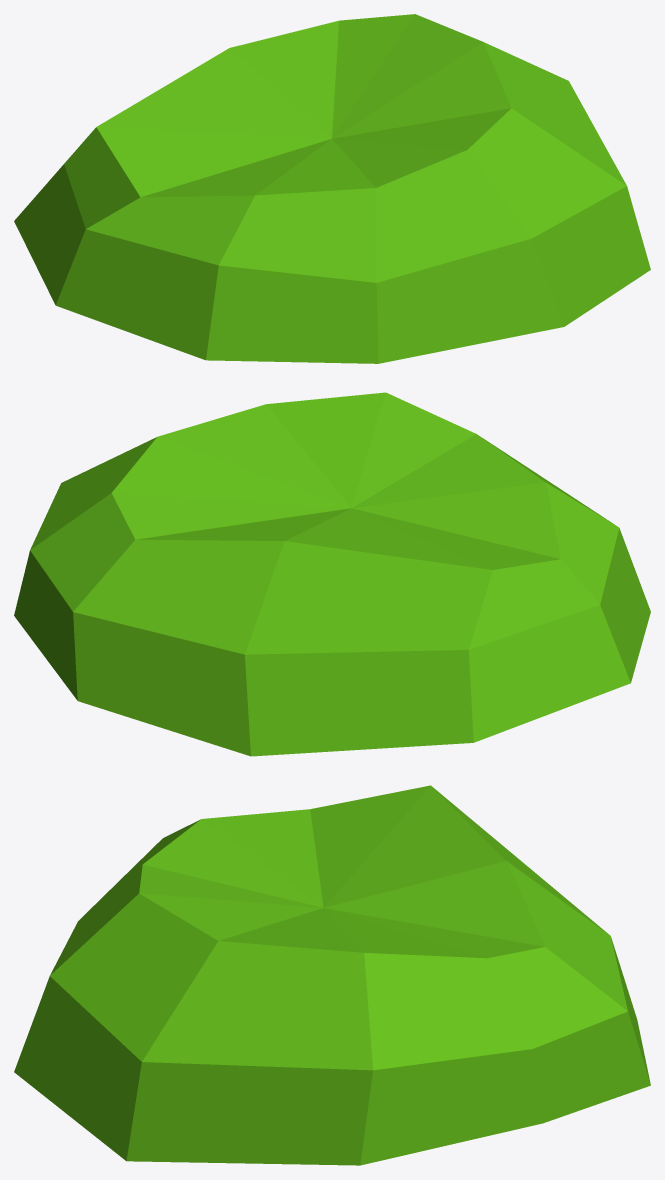
The model's file is Beanbag_Green.fbx.
3 renders of one model, top to bottom at view 1: azimuth 30°, elevation 25°; view 2: azimuth 150°, elevation 25°; view 3: azimuth 270°, elevation 25°, orthographic. The views are drawn at different scales.
Parts seen in each view (by area): view 1: Beanbag2; view 2: Beanbag2; view 3: Beanbag2.
Boxes of the visible parts, bbox=[...] form: Beanbag2: bbox=[14, 14, 650, 363]; Beanbag2: bbox=[14, 392, 650, 756]; Beanbag2: bbox=[14, 785, 650, 1165].
Size of the model in its own units: 99.59 by 32.2 by 91.7.
